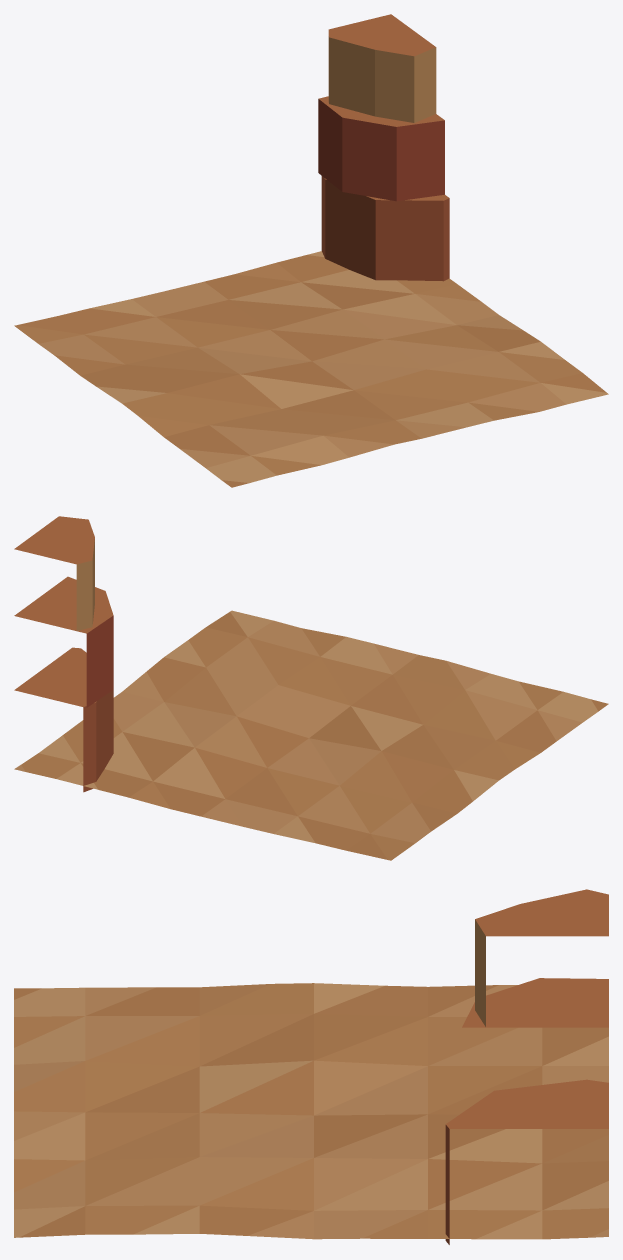
3 renders of one model, top to bottom at view 1: azimuth 30°, elevation 25°; view 2: azimuth 150°, elevation 25°; view 3: azimuth 270°, elevation 25°, orthographic. The views are drawn at different scales.
Visible parts, largest first — view 1: baked; view 2: baked; view 3: baked.
Boxes of the visible parts, x1,y1,x2,y2 form: baked: (14,14,608,487); baked: (14,516,608,860); baked: (14,889,608,1244).
Size of the model in its own units: 62.5 by 35.84 by 62.5.
